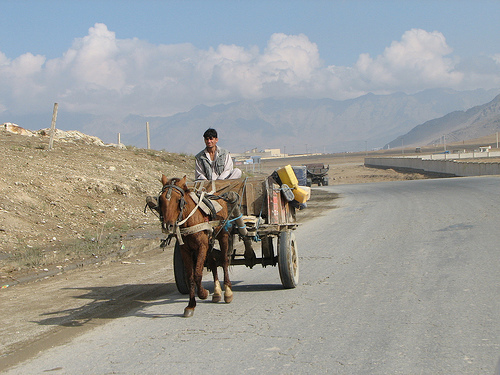horse: (158, 175, 235, 317)
